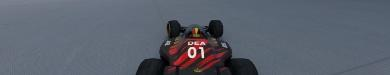Car: (134, 19, 259, 74)
grass: (0, 0, 389, 74)
